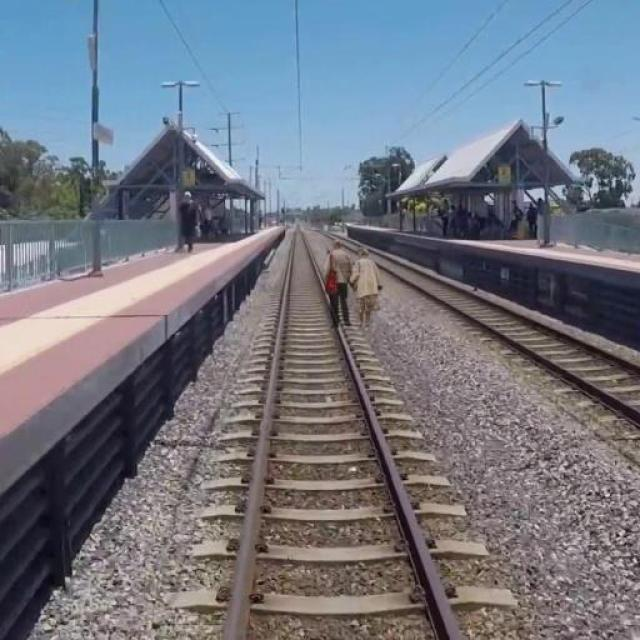people: (320, 231, 352, 326), (353, 238, 384, 328), (175, 184, 202, 256)
